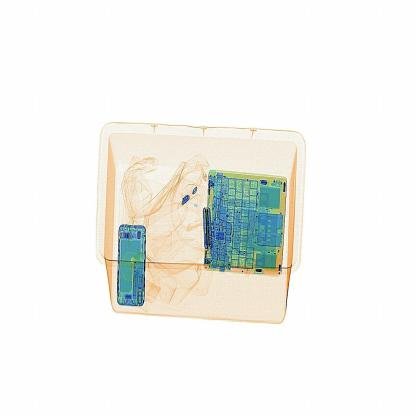scissors: (195, 191, 223, 258)
